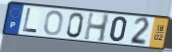0: (65, 11, 86, 39), (108, 16, 129, 43)
2: (129, 17, 150, 47)
H: (82, 11, 111, 44)
L: (22, 8, 39, 35)
O: (43, 10, 65, 37)
